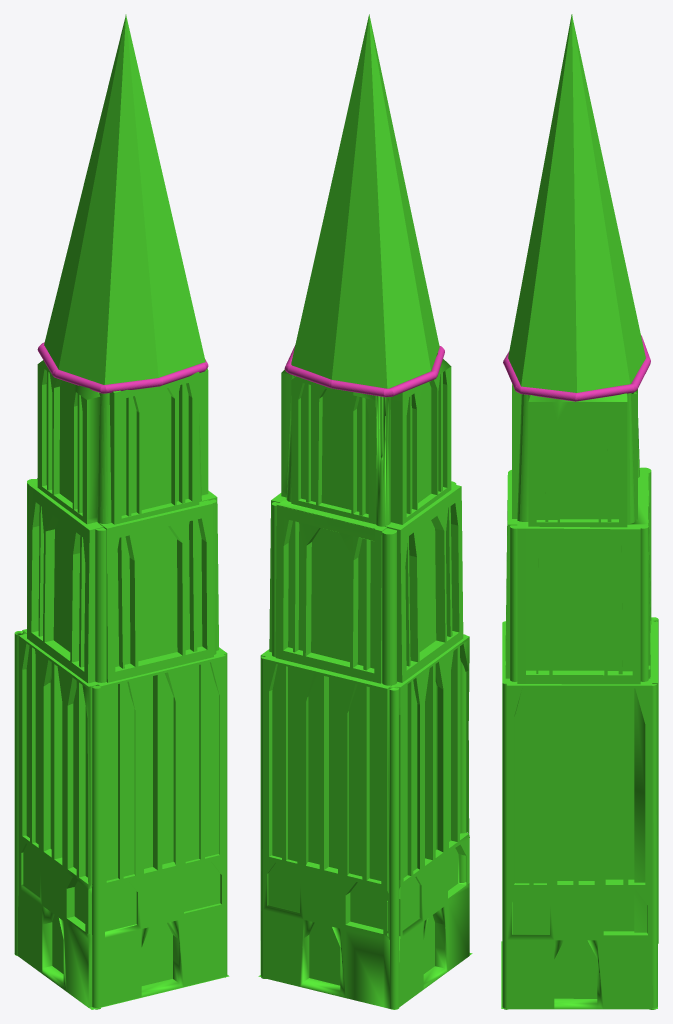
Rendered from tower.fbx.
3 views of the same model, side by side, from view 1: azimuth 30°, elevation 25°; view 2: azimuth 150°, elevation 25°; view 3: azimuth 270°, elevation 25° (orthographic).
Visible parts, largest first — view 1: Cube, Cube.001; view 2: Cube, Cube.001; view 3: Cube, Cube.001.
Boxes of the visible parts, x1,y1,x2,y2 form: Cube: [14, 14, 229, 1009]; Cube.001: [37, 342, 208, 393]; Cube: [258, 14, 472, 1009]; Cube.001: [284, 345, 444, 397]; Cube: [501, 14, 658, 1009]; Cube.001: [503, 335, 650, 401].
Size of the model in its own units: 91.65 by 590 by 87.25.
